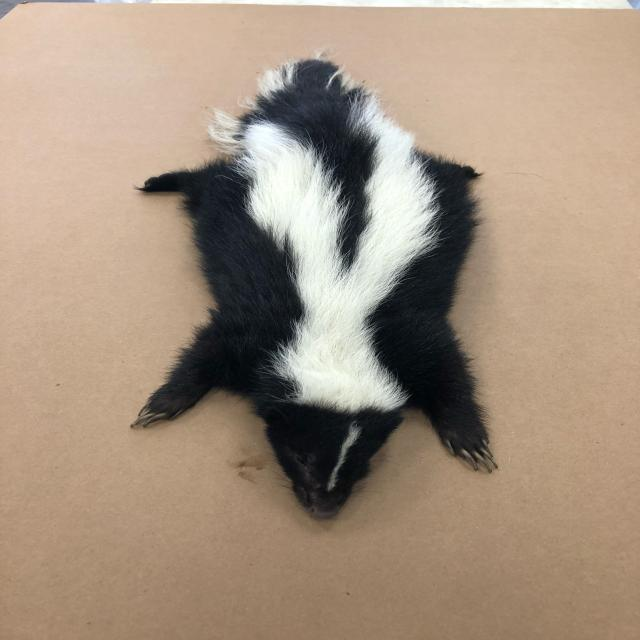Skunk: (104, 38, 522, 518)
